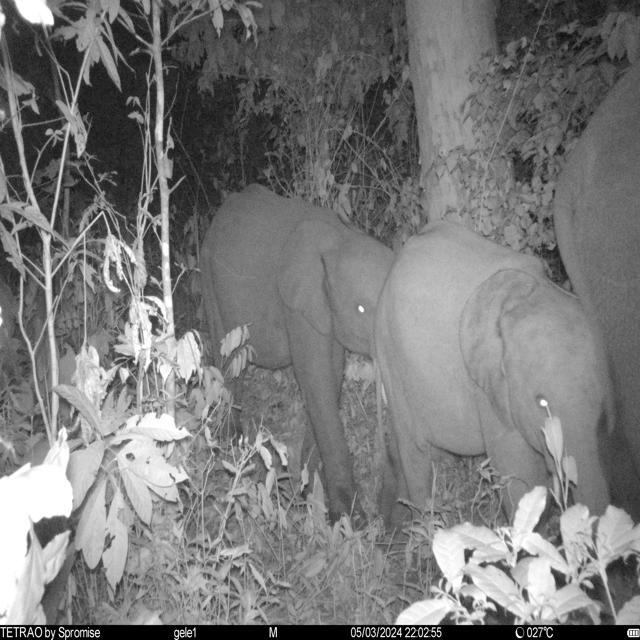calf: (372, 220, 610, 566), (198, 183, 400, 536)
ear: (455, 266, 537, 432), (273, 216, 335, 337)
elephant: (552, 58, 640, 524)
tusk: (550, 474, 560, 511)
